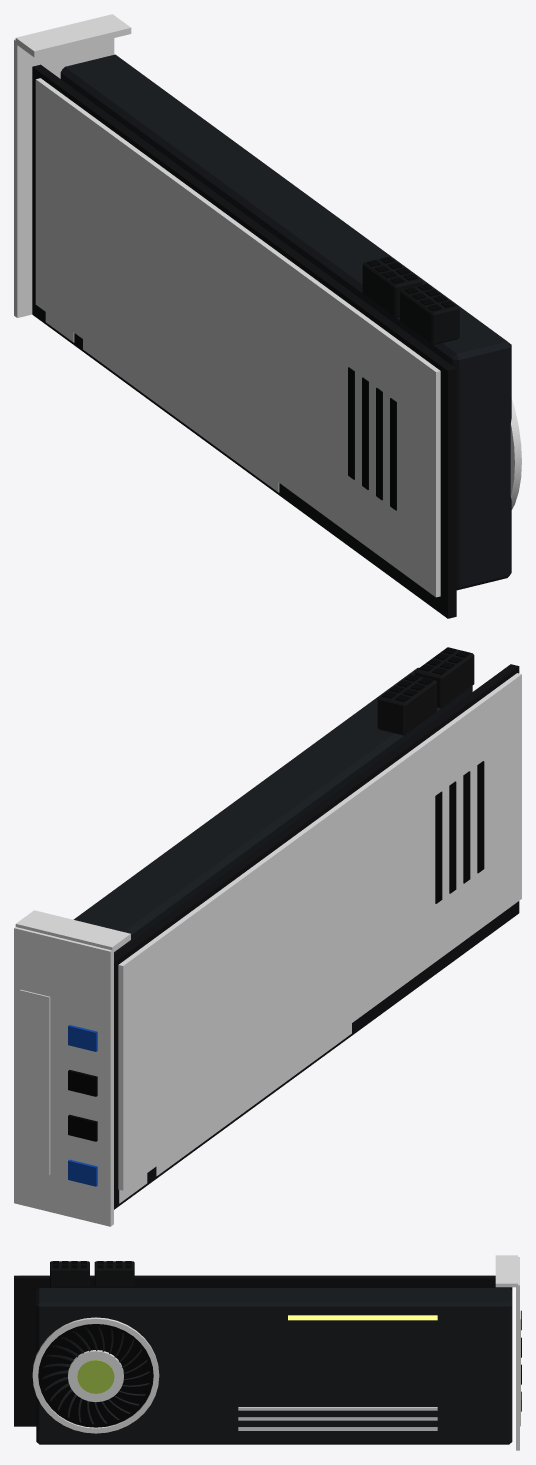
File: hw_gpu_rtx6000_ada.glb
The picture shows the model from 3 angles, top to bottom: view 1: azimuth 30°, elevation 25°; view 2: azimuth 150°, elevation 25°; view 3: azimuth 270°, elevation 25°; orthographic projection. The views are drawn at different scales.
Parts seen in each view (by area): view 1: Body; view 2: Body; view 3: Body, Rotor_X_0.
Part boxes in pixels (left/top/right/bottom): Body: left=14, top=14, right=521, bottom=618; Body: left=14, top=647, right=521, bottom=1226; Body: left=14, top=1255, right=521, bottom=1450; Rotor_X_0: left=42, top=1326, right=149, bottom=1424.
Bounding box in the file's own units: 0.0389 × 0.1006 × 0.2727.
